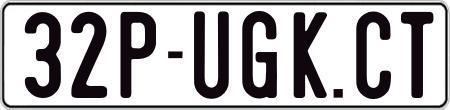2: (68, 12, 106, 104)
3: (25, 9, 65, 97)
C: (353, 12, 394, 102)
G: (240, 8, 278, 98)
K: (294, 10, 333, 101)
P: (120, 9, 161, 98)
T: (400, 12, 437, 101)
U: (191, 9, 226, 98)
